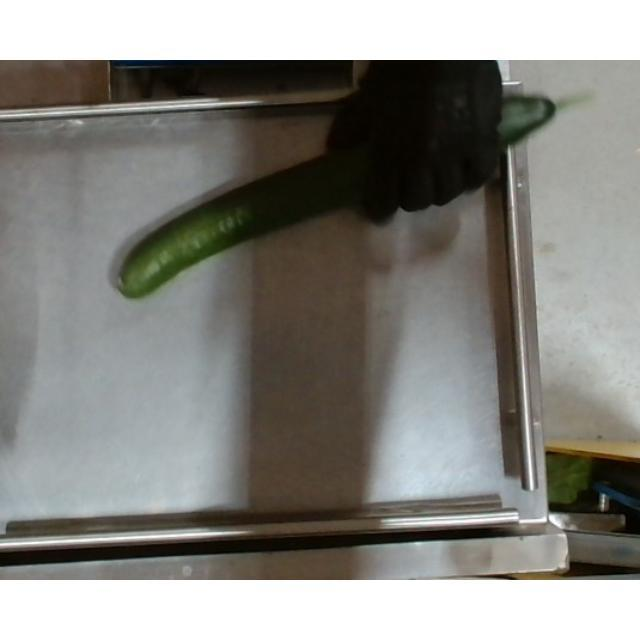cucumber: (115, 91, 558, 302)
